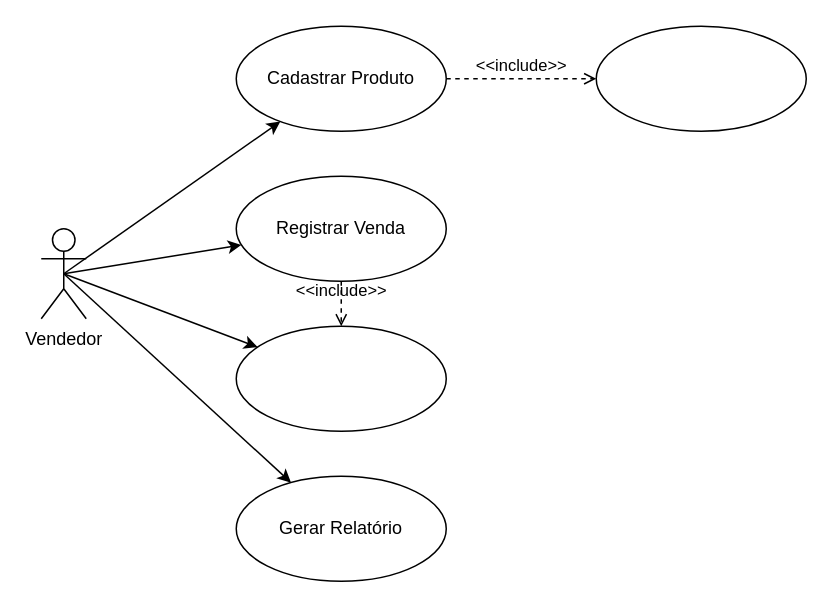
The diagram is 833 pixels wide and 608 high, and some of its shapes have lost their labels. Here are the shapes that lost their labels. From the top down, the centre of each, then its label:
At [700,78]: "Selecionar Categoria".
At [340,378]: "Cadastrar Cliente".
